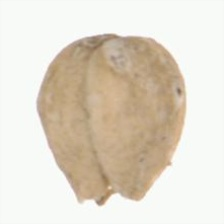L1: (75, 175, 145, 206), (77, 32, 154, 48)
L2: (36, 32, 187, 206)
